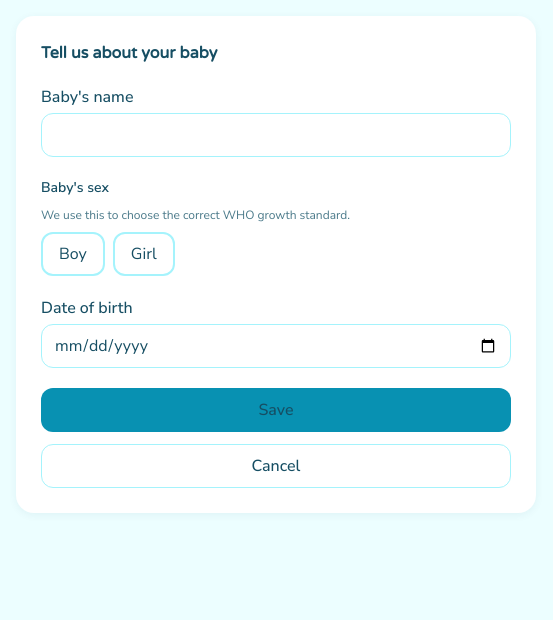
Test: ChildForm — mutation failure › mutation rejects → Toast shown with error message, form values preserved
In the field labelled "Baby's name": (276, 135) [41,113,511,157], type "Alice"
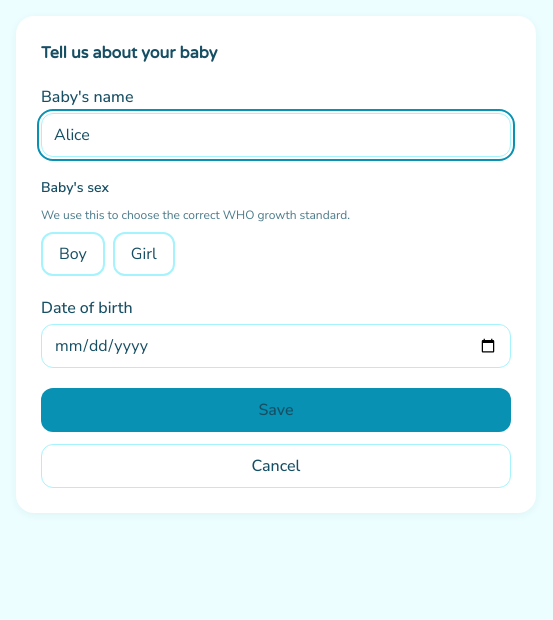
Click the radio button labelled "Girl": (144, 254) [113,232,175,276]
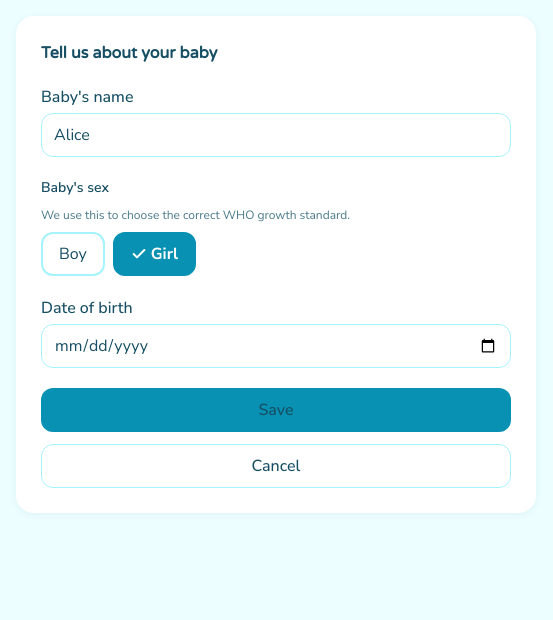
In the date field labelled "Date of birth": (276, 346) [41,324,511,368], type "2024-01-15"
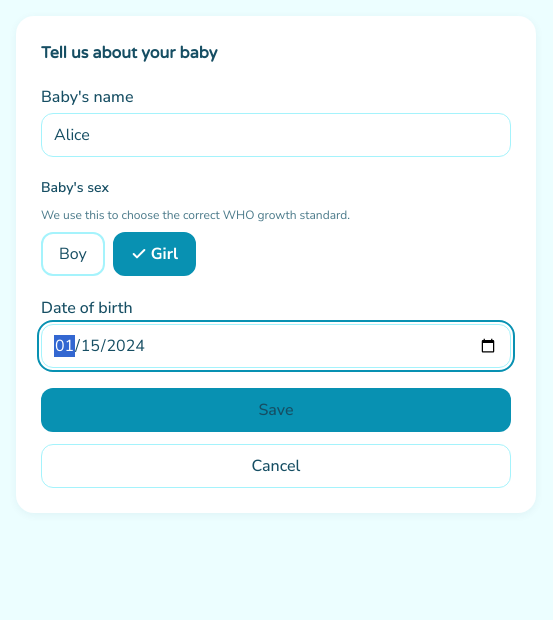
Click the button "Save": (276, 410) [41,388,511,432]
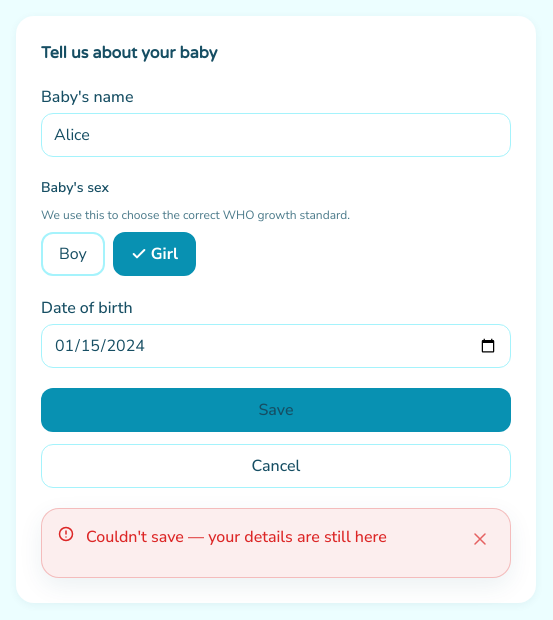
Result: the text "Couldn't save — your details are still here" is shown at [86,526,387,548]
